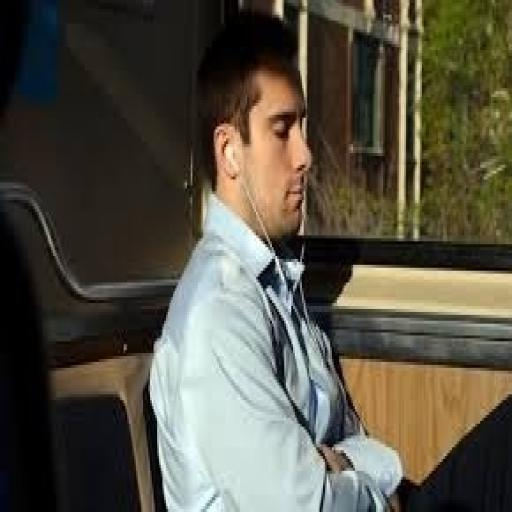sitting: (147, 9, 510, 509)
